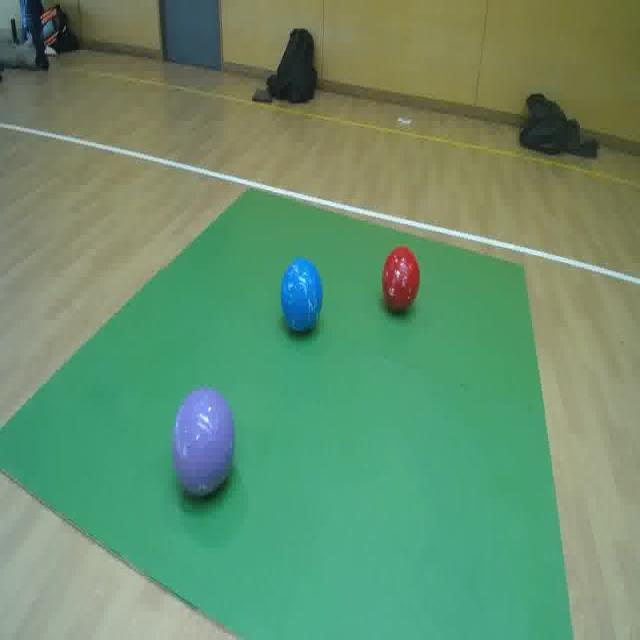blue_ball: (281, 258, 323, 332)
purple_ball: (172, 386, 235, 498)
red_ball: (382, 246, 420, 313)
